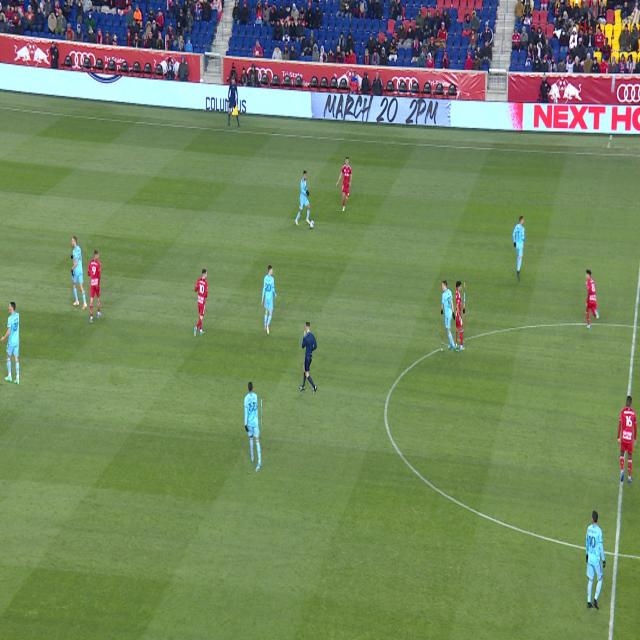football: (310, 220, 314, 228)
player: (586, 511, 606, 608), (618, 396, 637, 481), (0, 302, 19, 384), (245, 383, 261, 472), (71, 237, 87, 310), (261, 265, 277, 335), (441, 280, 456, 351), (194, 269, 208, 337), (88, 250, 101, 322), (295, 171, 311, 225), (336, 158, 352, 211), (586, 269, 599, 330), (513, 216, 525, 279), (454, 282, 465, 350)
referee: (299, 322, 317, 394)
